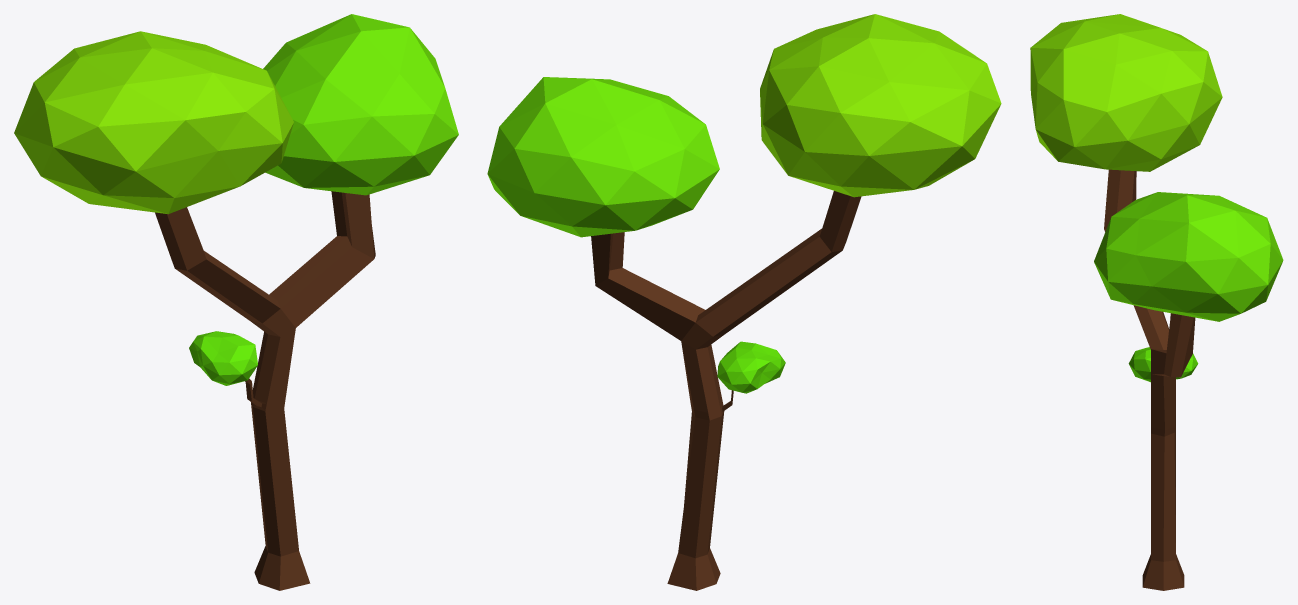
File: Low_poly_tree__3.glb
3 views of the same model, side by side, from view 1: azimuth 30°, elevation 25°; view 2: azimuth 150°, elevation 25°; view 3: azimuth 270°, elevation 25° (orthographic). The views are drawn at different scales.
Visible parts, largest first — view 1: Low poly tree #3; view 2: Low poly tree #3; view 3: Low poly tree #3.
Boxes of the visible parts, x1,y1,x2,y2 form: Low poly tree #3: (14,14,458,590); Low poly tree #3: (487,14,1001,590); Low poly tree #3: (1030,14,1283,590).
Size of the model in its own units: 4.86 by 6.02 by 2.85.
